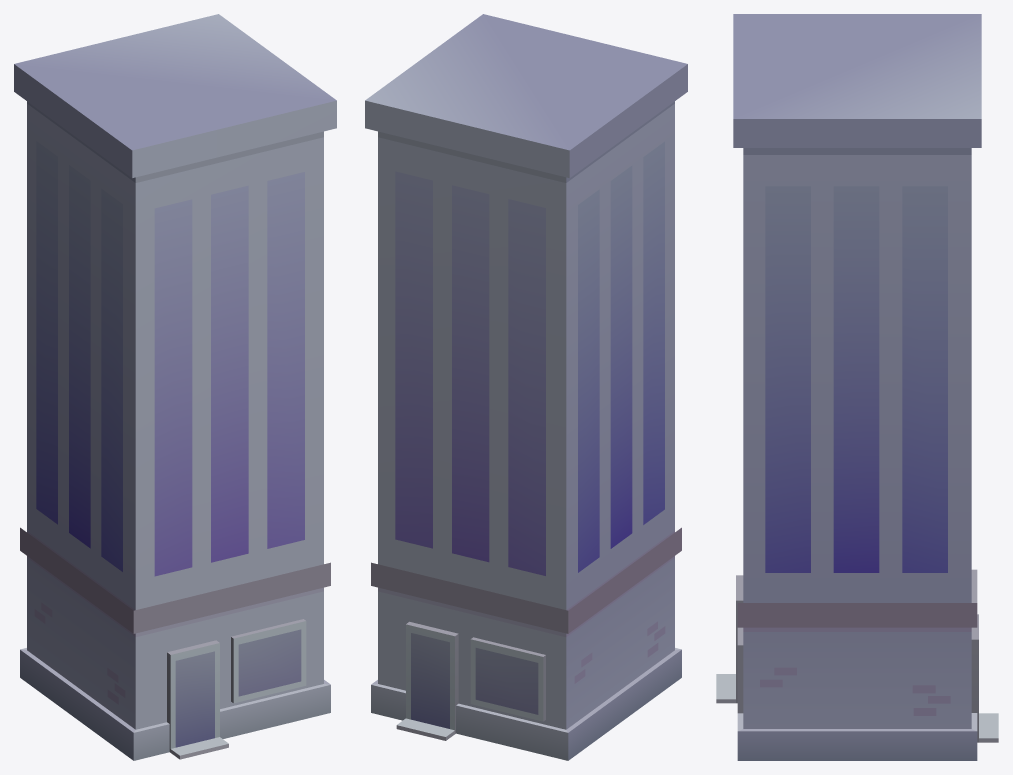
Rendered from build_a.glb.
3 renders of one model, left to right at view 1: azimuth 30°, elevation 25°; view 2: azimuth 150°, elevation 25°; view 3: azimuth 270°, elevation 25°, orthographic. The views are drawn at different scales.
Parts seen in each view (by area): view 1: build_a; view 2: build_a; view 3: build_a.
Part boxes in pixels (<box>): build_a: <box>14,14,336,760</box>; build_a: <box>365,14,687,760</box>; build_a: <box>716,14,998,760</box>.
Bounding box in the file's own units: 1.09 × 3.11 × 1.24.
